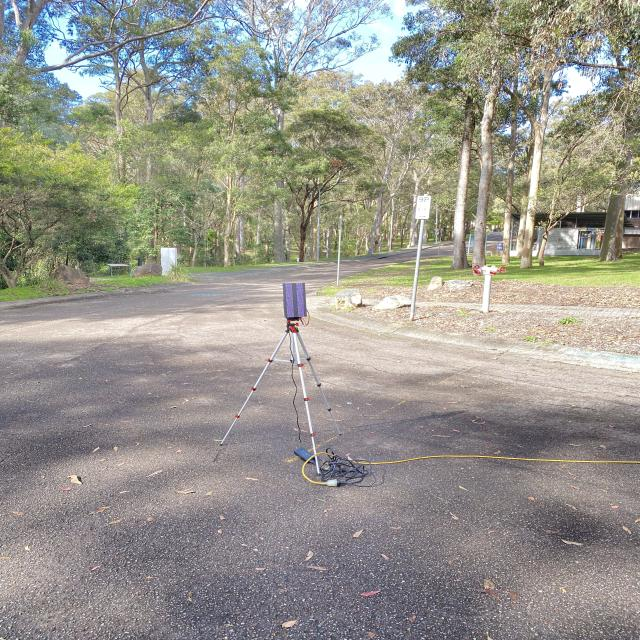matrix: (277, 279, 313, 323)
